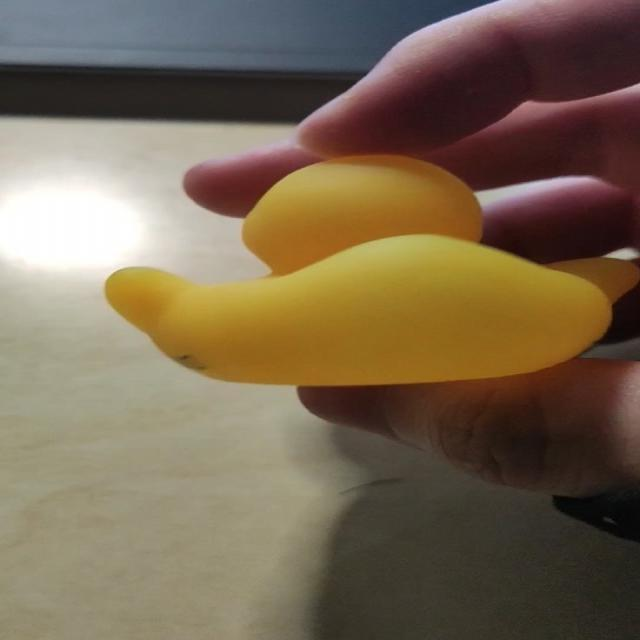rubber-duck: (104, 154, 636, 384)
